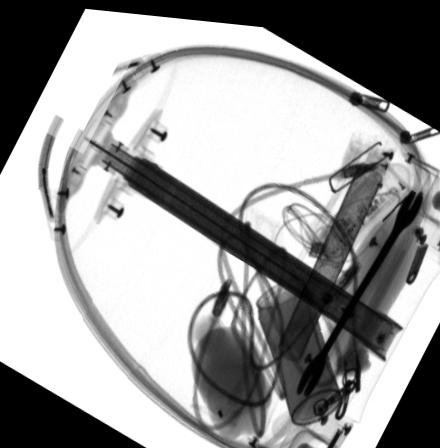Wrench: (294, 178, 422, 390)
